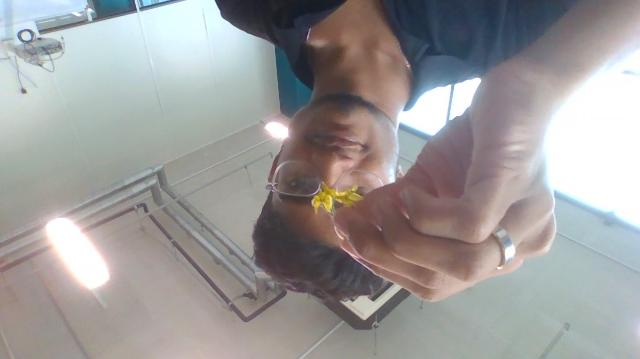Anthesis: (334, 185, 364, 208), (312, 188, 334, 215)
